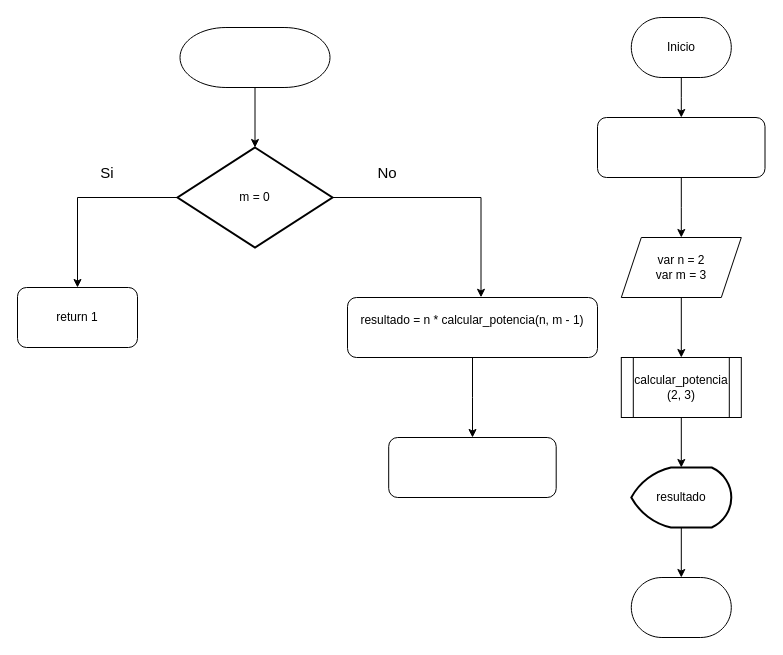
Some shapes in this 783 by 655 pixel diagram are drawn without their labels. Here are the shapes that lost their labels. From the top down, the centre of each, then its label:
At point 254,57: "calcular_potencia (n, m)".
At point 680,147: "n: entero m: entero resultado: entero".
At point 472,467: "return resultado".
At point 680,607: "Fin".
